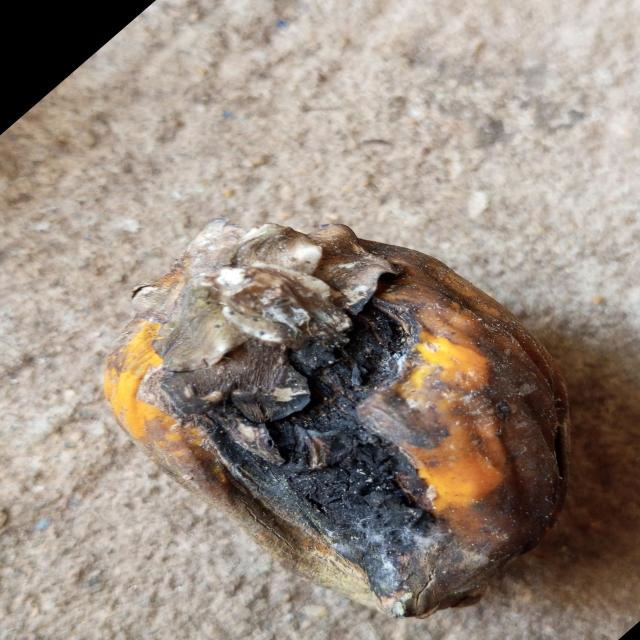damaged: (104, 219, 569, 617)
